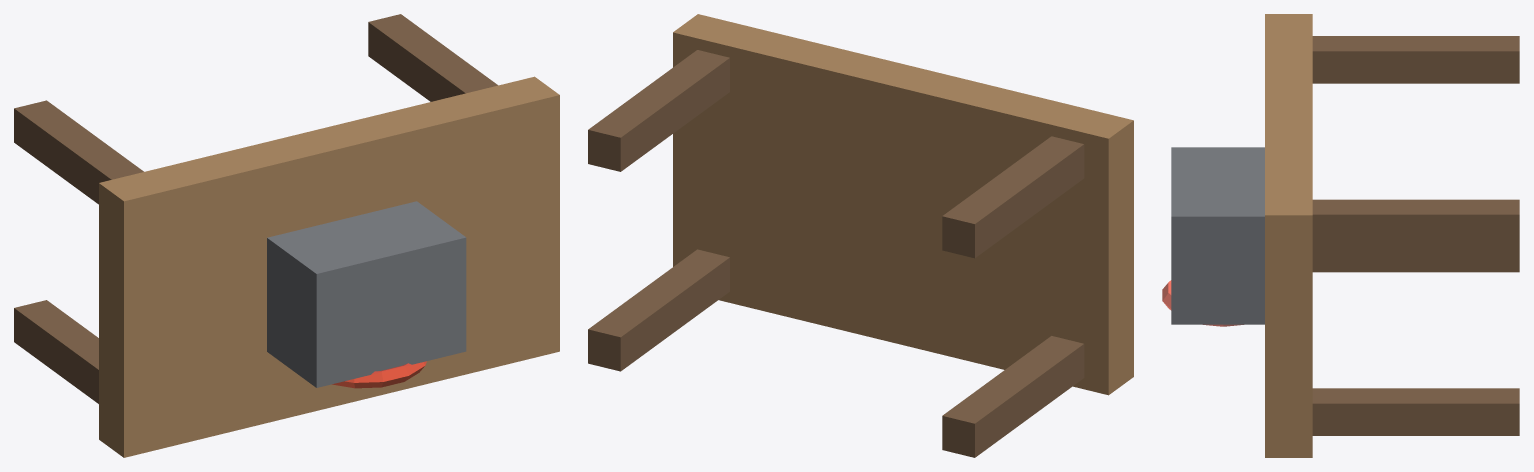
Rendered from 09_salvage_grinder.glb.
3 views of the same model, side by side, from view 1: azimuth 30°, elevation 25°; view 2: azimuth 150°, elevation 25°; view 3: azimuth 270°, elevation 25° (orthographic). The views are drawn at different scales.
Visible parts, largest first — view 1: table_top, grinder, leg_3, leg_4, leg_1, blade; view 2: table_top, leg_1, leg_3, leg_2, leg_4; view 3: table_top, grinder, leg_2, leg_3, leg_4, leg_1.
Boxes of the visible parts, box(x1,y1,x2,y2) form: table_top: box(99, 76, 559, 457); grinder: box(267, 201, 466, 387); leg_3: box(14, 100, 143, 204); leg_4: box(368, 14, 497, 101); leg_1: box(14, 300, 98, 403); blade: box(332, 361, 426, 388); table_top: box(673, 14, 1133, 395); leg_1: box(942, 336, 1084, 457); leg_3: box(942, 136, 1084, 258); leg_2: box(588, 249, 729, 371); leg_4: box(588, 50, 729, 171); table_top: box(1265, 14, 1312, 457); grinder: box(1171, 147, 1264, 324); leg_2: box(1312, 388, 1519, 435); leg_3: box(1312, 36, 1519, 83); leg_4: box(1312, 199, 1519, 246); leg_1: box(1312, 247, 1519, 272).
Size of the model in its own units: 1.6 by 0.9 by 1.2.
